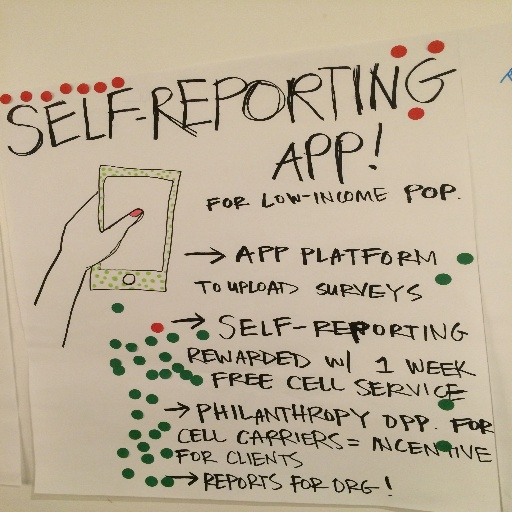hand: (39, 190, 138, 301)
